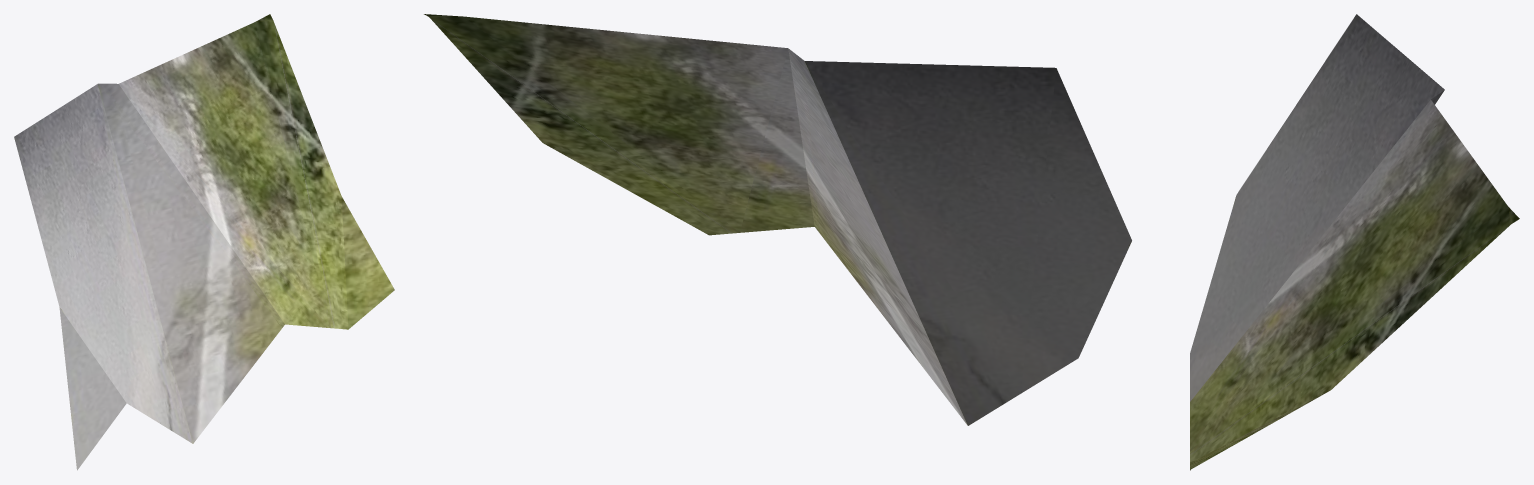
The picture shows the model from 3 angles, left to right: view 1: azimuth 30°, elevation 25°; view 2: azimuth 150°, elevation 25°; view 3: azimuth 270°, elevation 25°; orthographic projection. The views are drawn at different scales.
Bounding box in the file's own units: 2.95 × 2.57 × 2.01.
3 materials, 3 textured.
